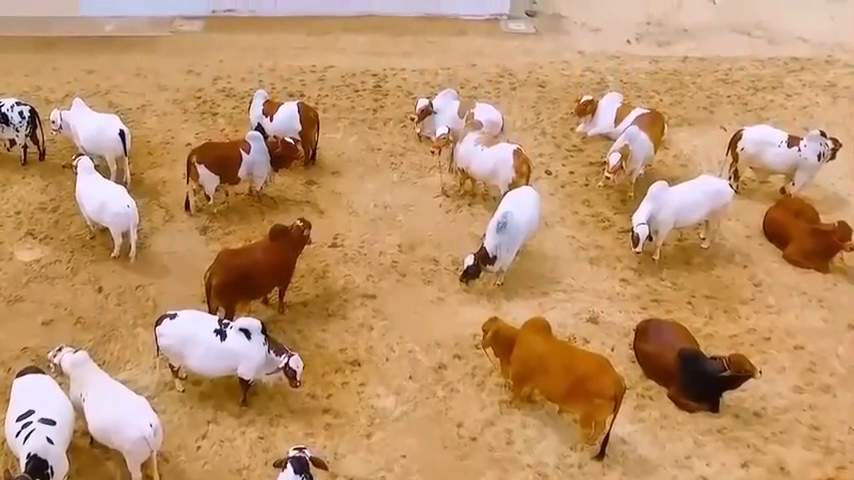bo: (479, 313, 630, 463), (45, 338, 171, 480), (153, 300, 313, 408), (632, 305, 762, 423), (206, 213, 320, 330), (187, 123, 304, 221), (42, 83, 144, 193), (724, 113, 842, 206), (626, 166, 731, 266), (62, 150, 153, 265), (456, 178, 549, 289), (1, 354, 77, 480), (432, 118, 538, 203), (758, 186, 853, 279), (568, 80, 679, 152), (242, 79, 327, 172), (595, 103, 671, 199), (409, 81, 512, 147), (2, 87, 46, 175), (261, 438, 334, 480)
